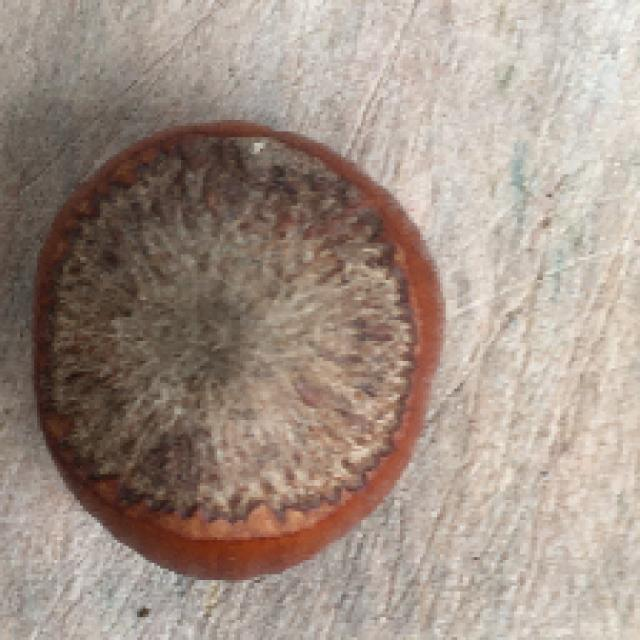qualityHazelnut: (20, 112, 451, 584)
